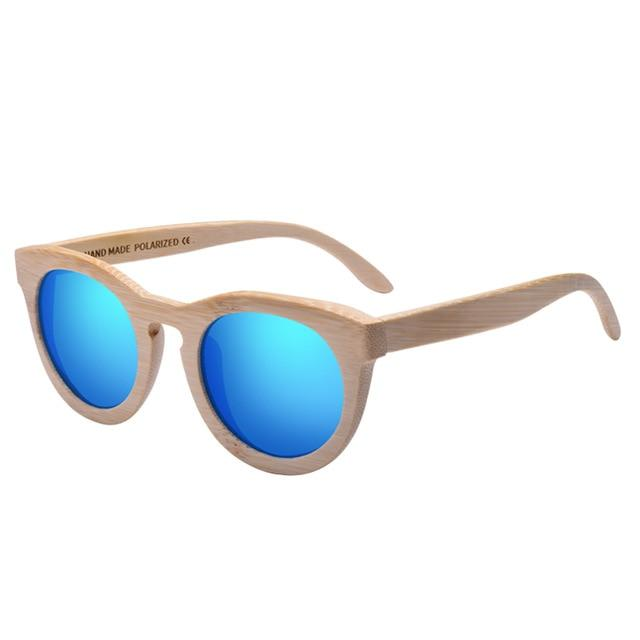sunglasses: (7, 216, 618, 487)
